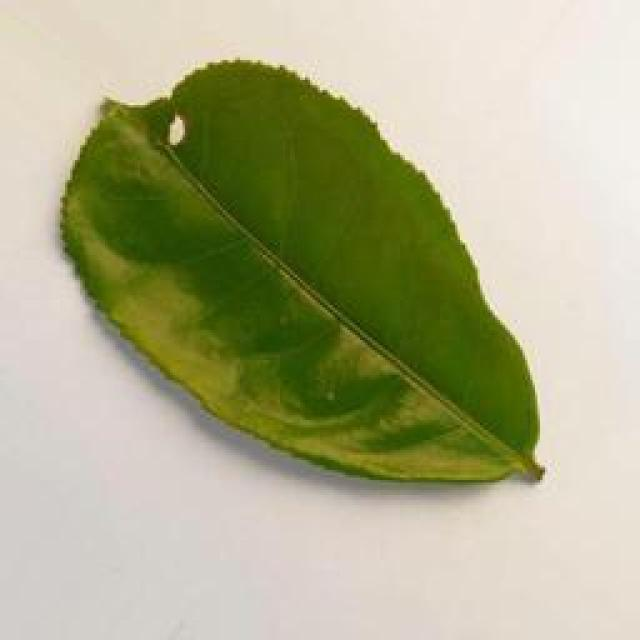Healthy: (52, 62, 544, 501)
